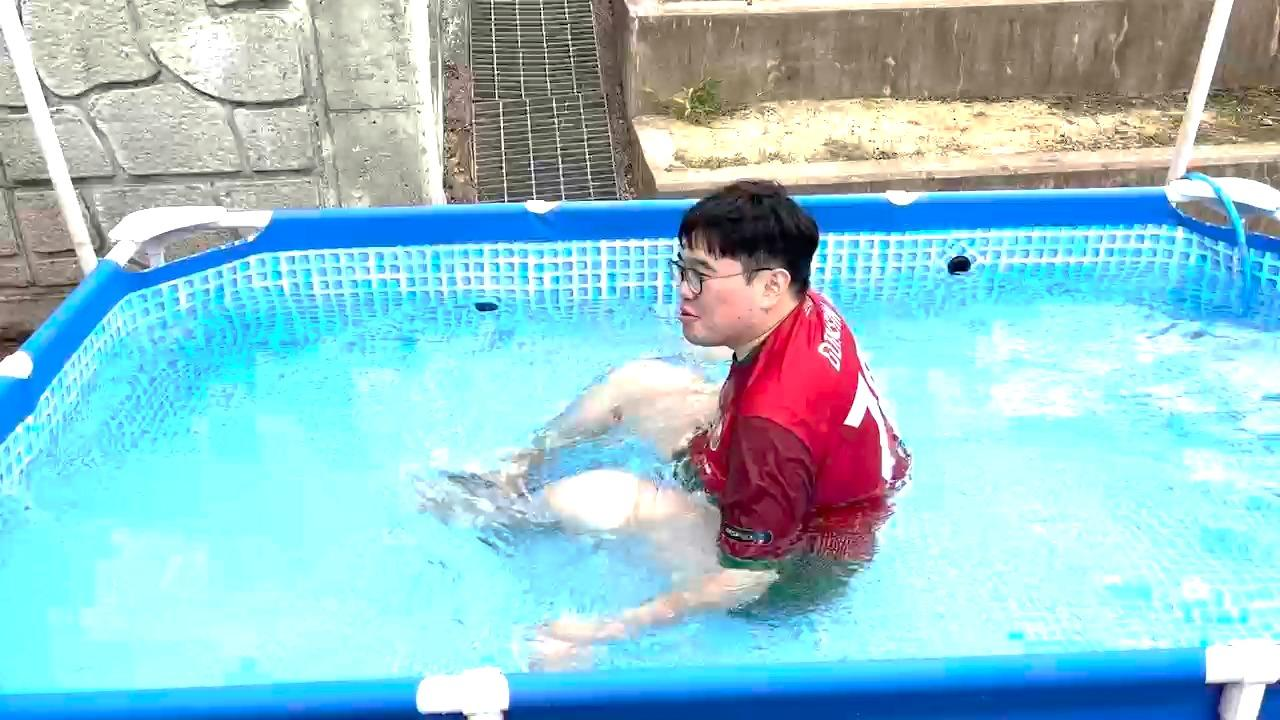Swimming: (382, 160, 944, 650)
